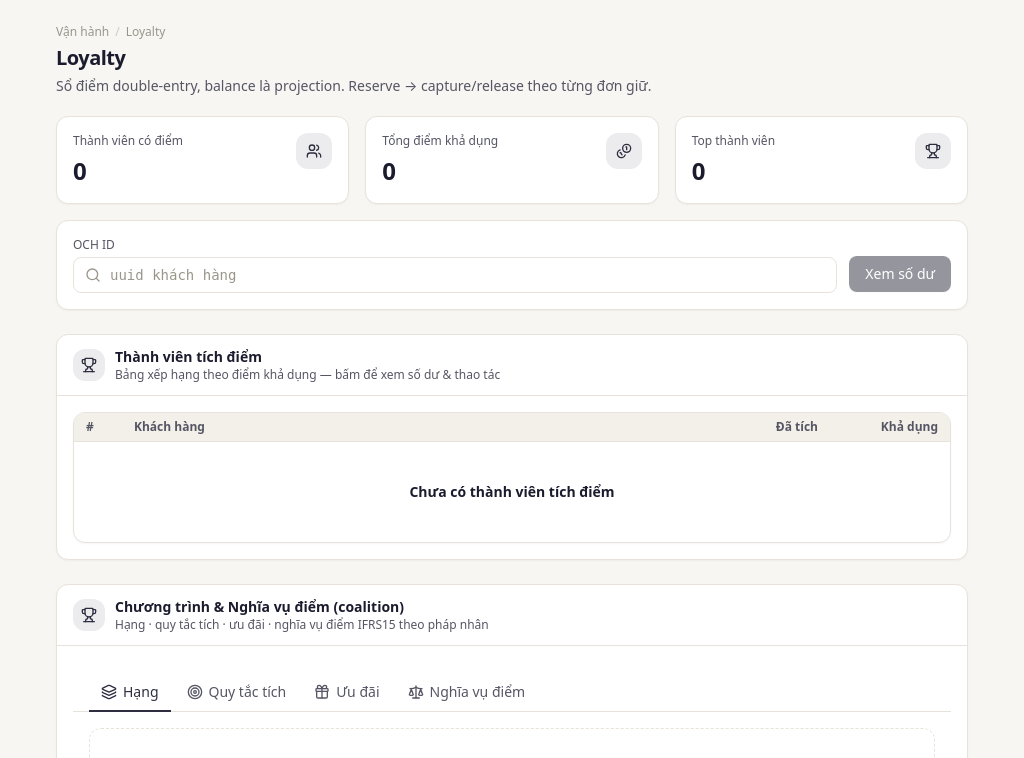
Scenario: LoyaltyScreen › cộng điểm gọi earn rồi refetch số dư
Type "11111111-1111-1111-1111-111111111111" into the field named "och id" at point(455, 275), box x1=73 y1=257 x2=837 y2=293
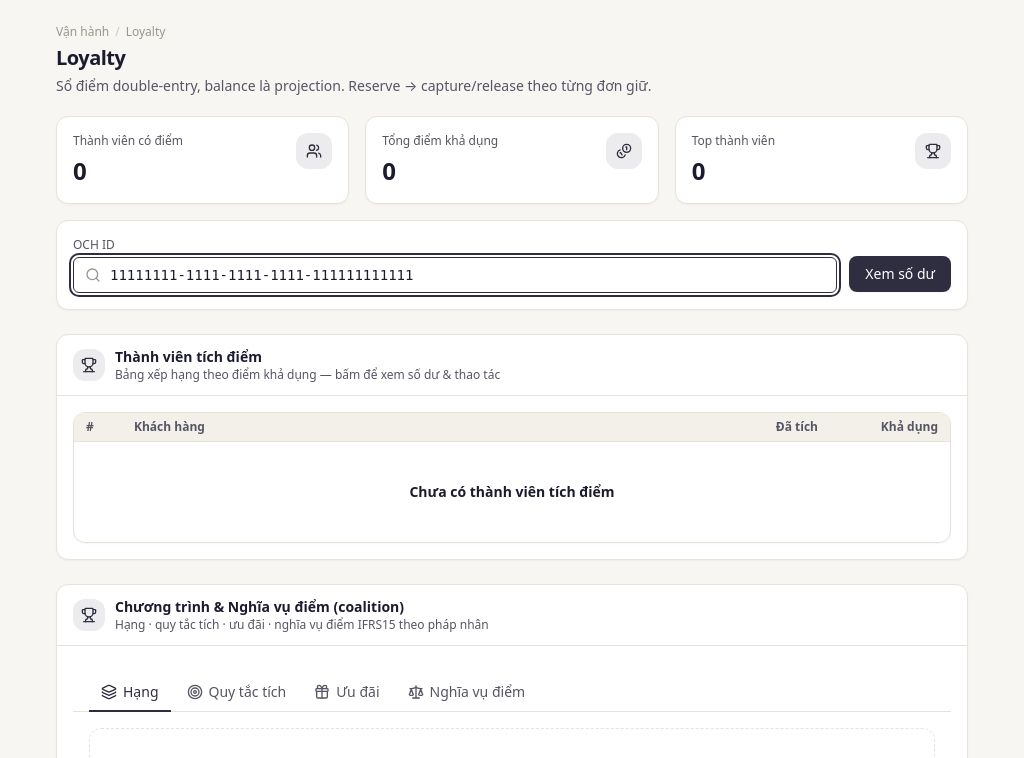
Click the button "Xem số dư" at point(900, 274), box x1=849 y1=256 x2=951 y2=292
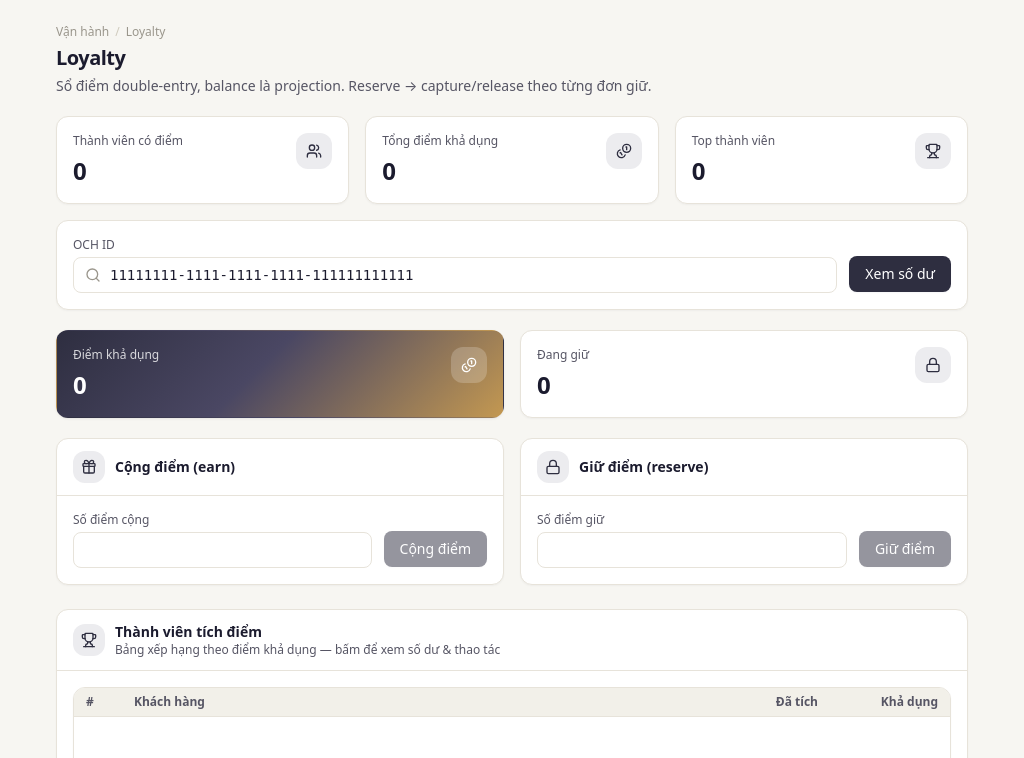
Now the text with test id "bal-available" is shown, box x1=73 y1=368 x2=86 y2=401
Type "50" into the field named "số điểm cộng" at point(222, 550), box x1=73 y1=532 x2=372 y2=568
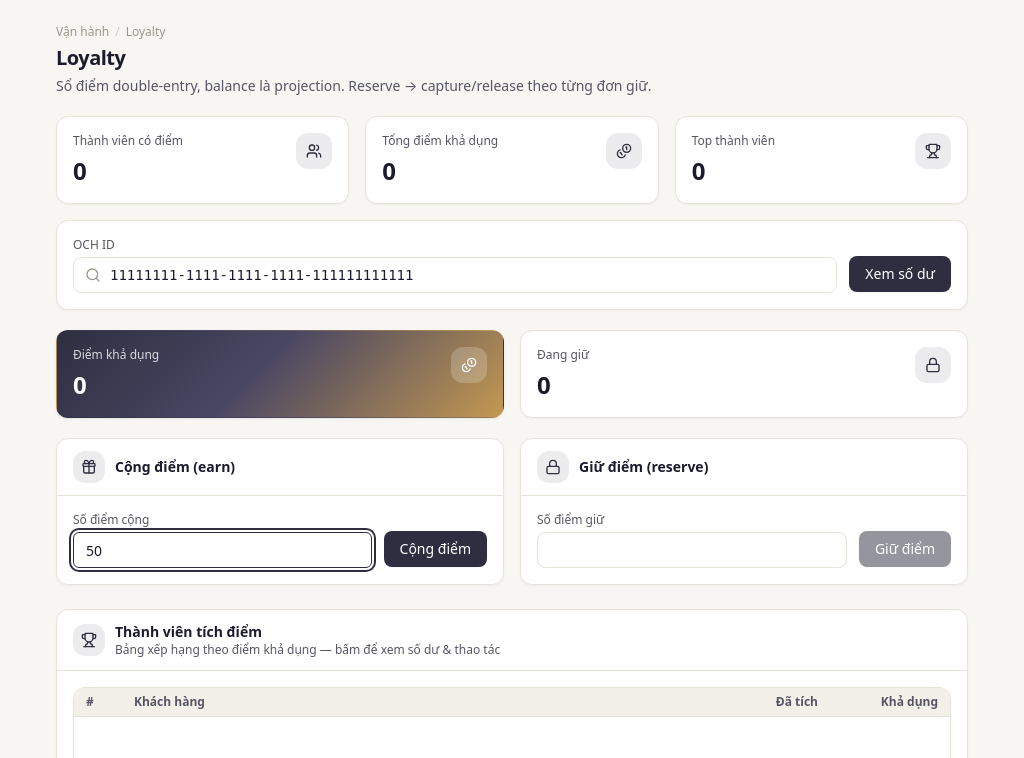
Click the button "Cộng điểm" at point(435, 549), box x1=384 y1=531 x2=487 y2=567
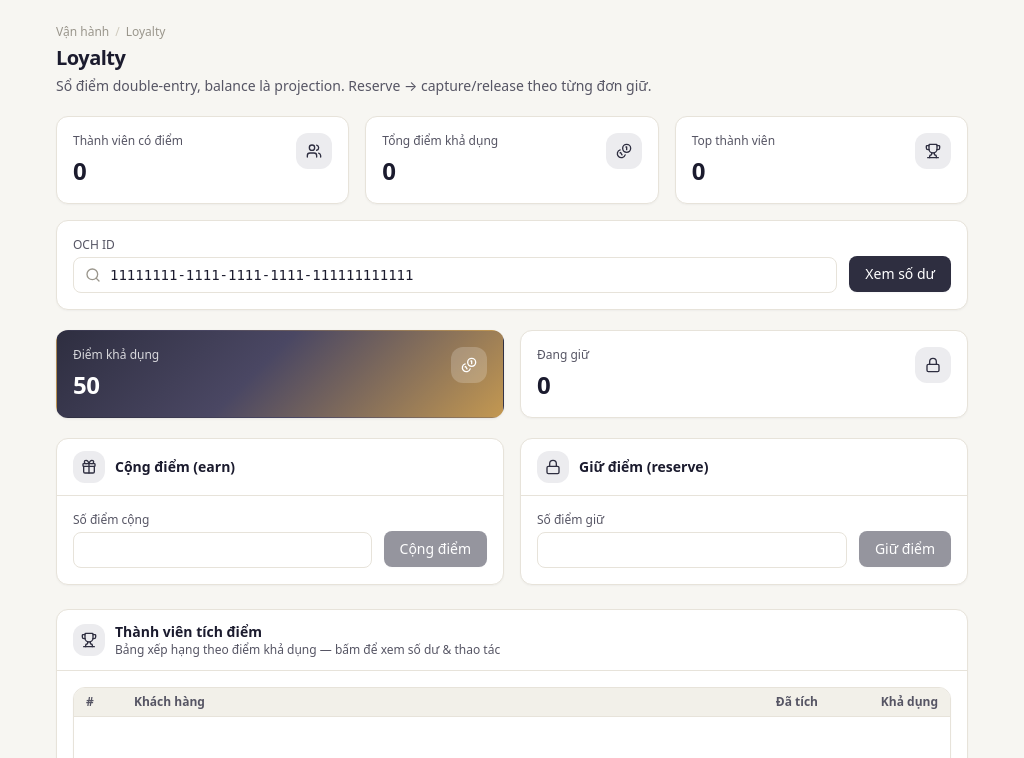
Now the text with test id "bal-available" reads "50", box x1=73 y1=368 x2=99 y2=401
